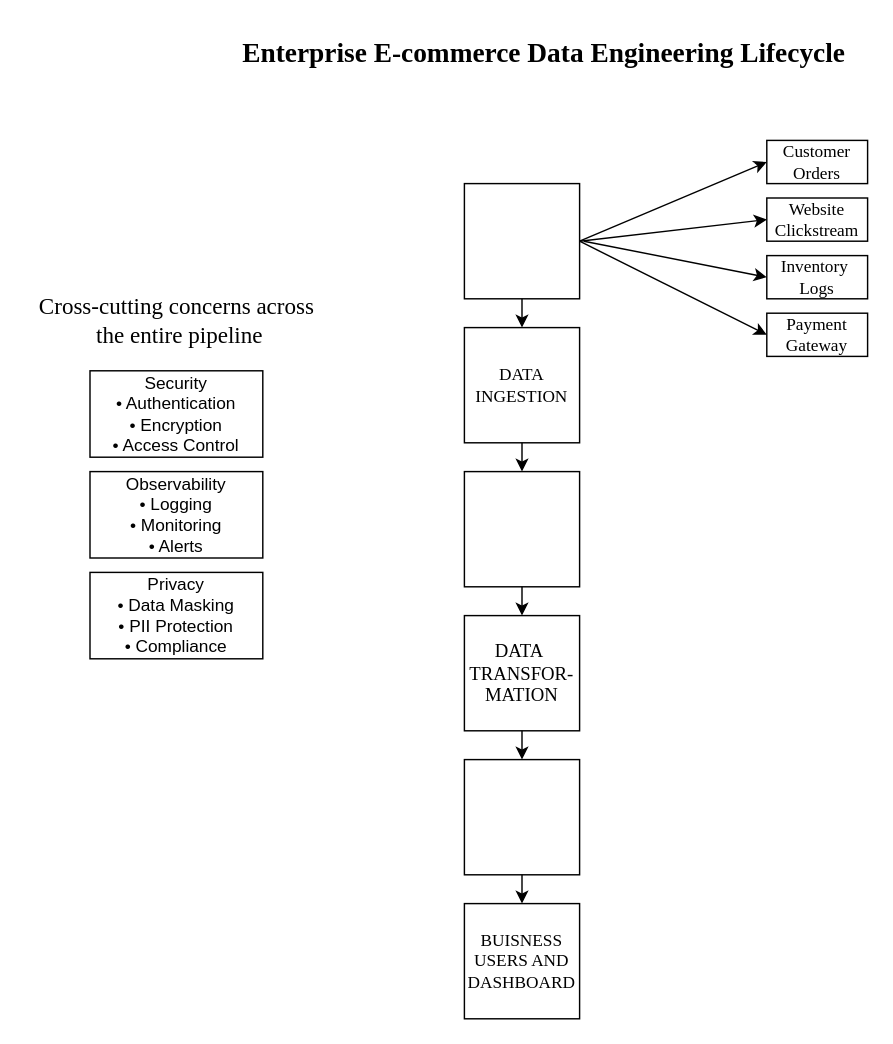
Some shapes in this 893 by 1044 pixel diagram are drawn without their labels. The shapes that lost their labels are listed below. From the top down, each one's centre as x and y in pixels, then its label:
(x=521, y=240): DATA GENERATION
(x=521, y=528): DATA STORAGE
(x=521, y=816): DATA SERVING
